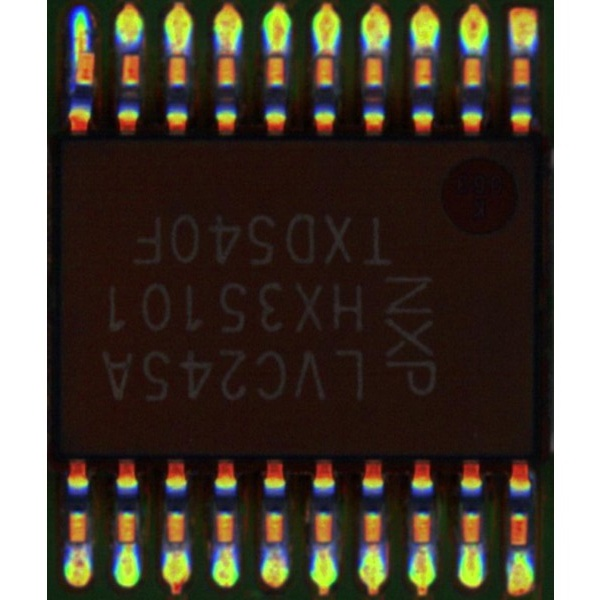Bad_podu: (74, 42, 86, 64)
